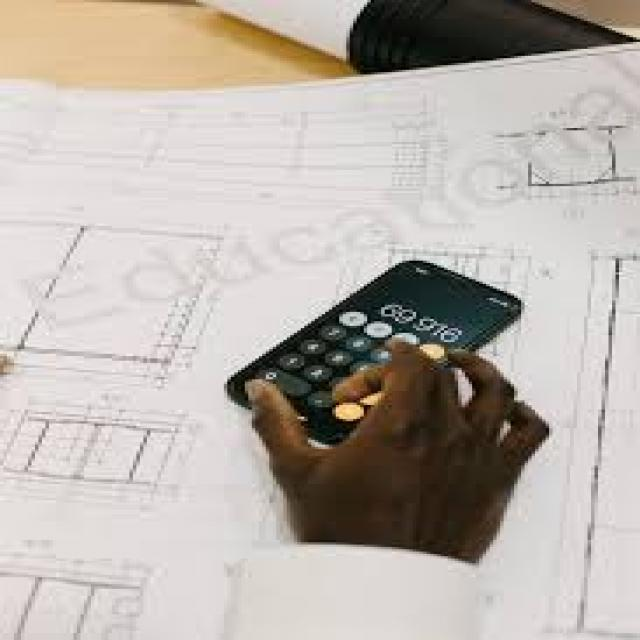Calculator: (222, 258, 526, 444)
